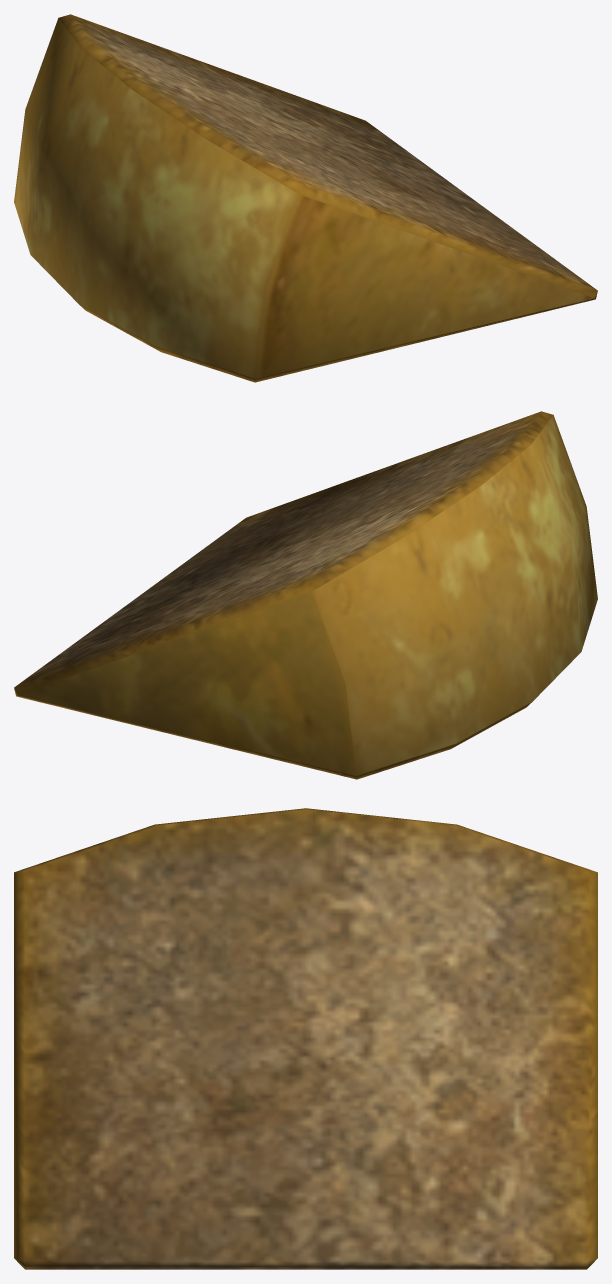
Rendered from Cheese_Wedge.obj.
3 views of the same model, one above another, from view 1: azimuth 30°, elevation 25°; view 2: azimuth 150°, elevation 25°; view 3: azimuth 270°, elevation 25° (orthographic). The views are drawn at different scales.
Parts seen in each view (by area): view 1: yellowcheesewedge; view 2: yellowcheesewedge; view 3: yellowcheesewedge.
Part boxes in pixels (<box>): yellowcheesewedge: <box>14,14,597,382</box>; yellowcheesewedge: <box>14,411,597,779</box>; yellowcheesewedge: <box>14,808,597,1269</box>.
Size of the model in its own units: 0.1523 by 0.0774 by 0.1579.
